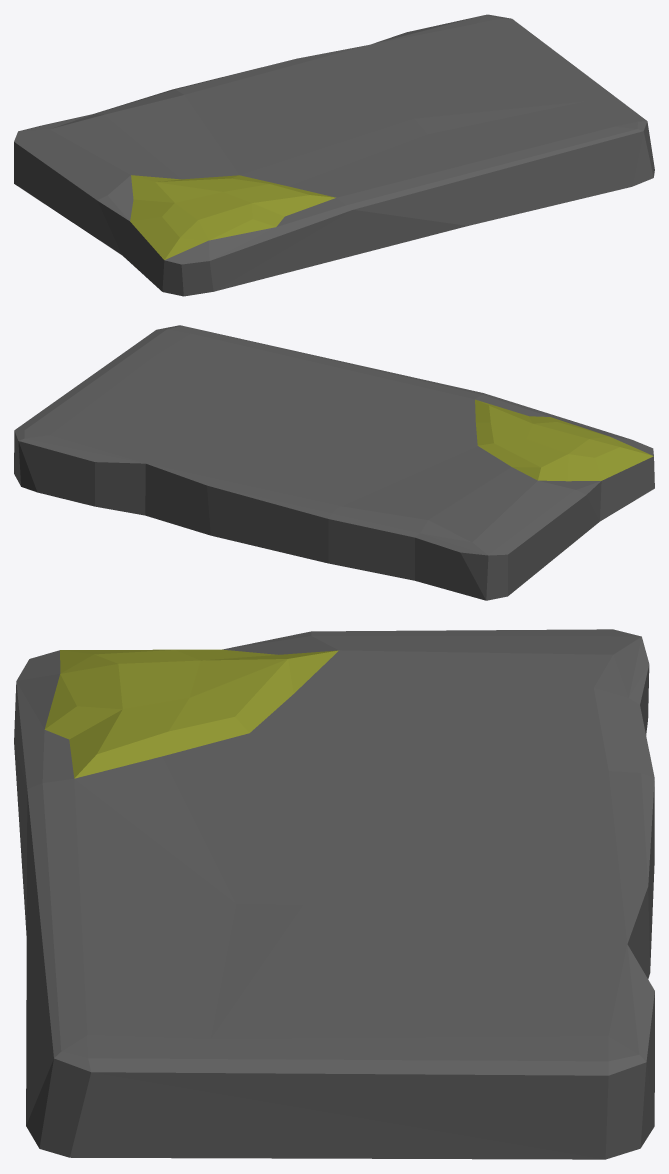
Rendered from tile_moss_type_4_LOD2.fbx.
3 renders of one model, top to bottom at view 1: azimuth 30°, elevation 25°; view 2: azimuth 150°, elevation 25°; view 3: azimuth 270°, elevation 25°, orthographic. The views are drawn at different scales.
Visible parts, largest first — view 1: tile_moss_type_4; view 2: tile_moss_type_4; view 3: tile_moss_type_4.
Part boxes in pixels (x1,y1,x2,y2): tile_moss_type_4: [14, 14, 654, 296]; tile_moss_type_4: [14, 325, 654, 600]; tile_moss_type_4: [14, 629, 654, 1159].
Bounding box in the file's own units: 200 × 22.05 × 120.
